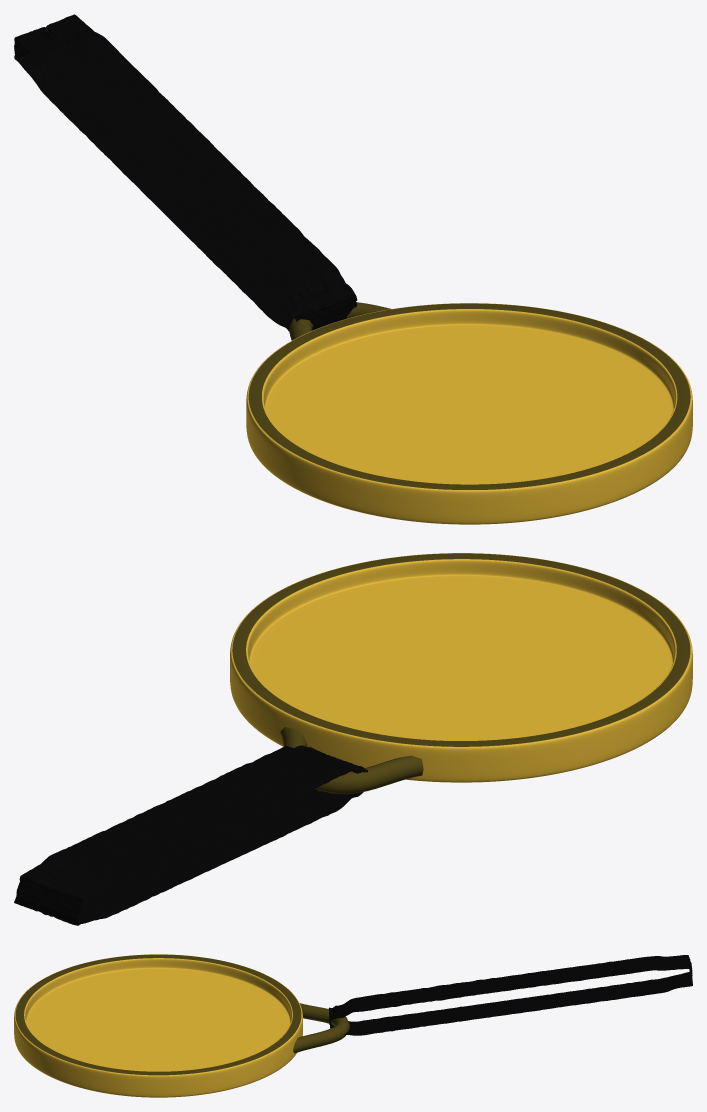
File: Jeddahmedal.fbx
3 renders of one model, top to bottom at view 1: azimuth 30°, elevation 25°; view 2: azimuth 150°, elevation 25°; view 3: azimuth 270°, elevation 25°, orthographic. The views are drawn at different scales.
Visible parts, largest first — view 1: Cylinder.001, Cube.002; view 2: Cylinder.001, Cube.002, BézierCircle.001; view 3: Cylinder.001, Cube.002, BézierCircle.001.
Boxes of the visible parts, x1=… form: Cylinder.001: x1=246, y1=303, x2=692, y2=524; Cube.002: x1=14, y1=14, x2=357, y2=331; Cylinder.001: x1=230, y1=553, x2=692, y2=782; Cube.002: x1=14, y1=745, x2=367, y2=925; BézierCircle.001: x1=280, y1=727, x2=423, y2=794; Cylinder.001: x1=14, y1=954, x2=302, y2=1097; Cube.002: x1=328, y1=955, x2=692, y2=1035; BézierCircle.001: x1=293, y1=1003, x2=349, y2=1053.
Bounding box in the file's own units: 167 × 46.59 × 392.
